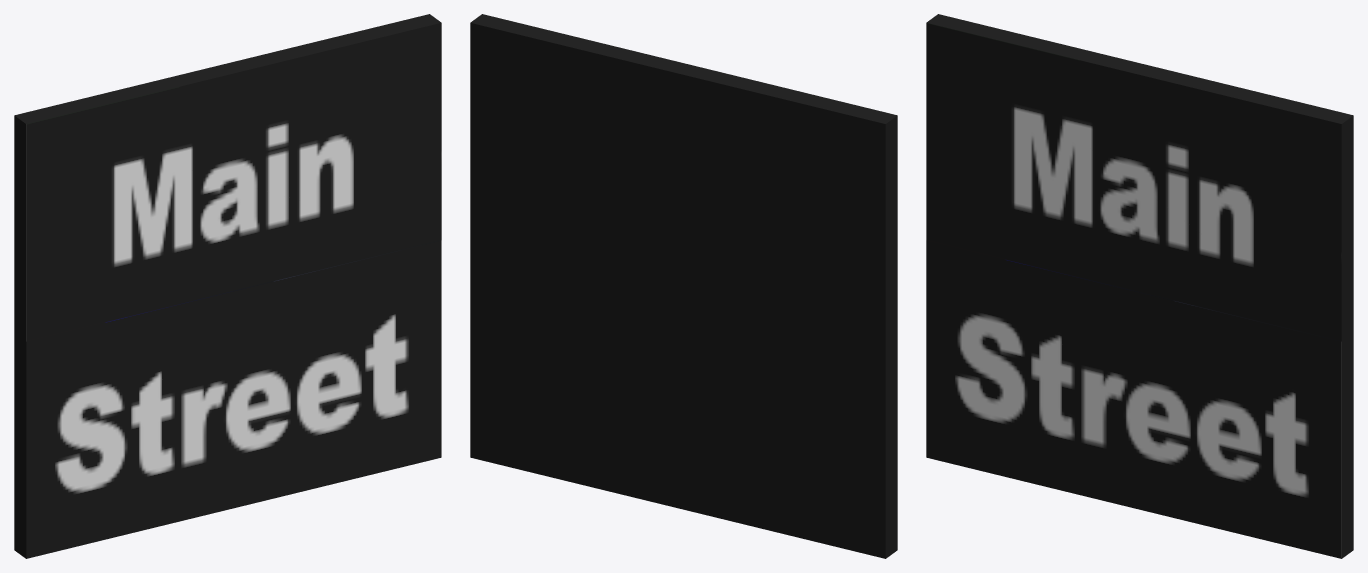
The model's file is SW_PROP_Sign_Small_01.fbx.
3 views of the same model, side by side, from view 1: azimuth 30°, elevation 25°; view 2: azimuth 150°, elevation 25°; view 3: azimuth 330°, elevation 25° (orthographic).
Visible parts, largest first — view 1: SW_PROP_Sign_Small_01; view 2: SW_PROP_Sign_Small_01; view 3: SW_PROP_Sign_Small_01.
Part boxes in pixels (bbox=[...]): SW_PROP_Sign_Small_01: bbox=[14, 14, 441, 558]; SW_PROP_Sign_Small_01: bbox=[470, 14, 897, 558]; SW_PROP_Sign_Small_01: bbox=[926, 14, 1353, 558].
Size of the model in its own units: 40 by 40 by 2.
